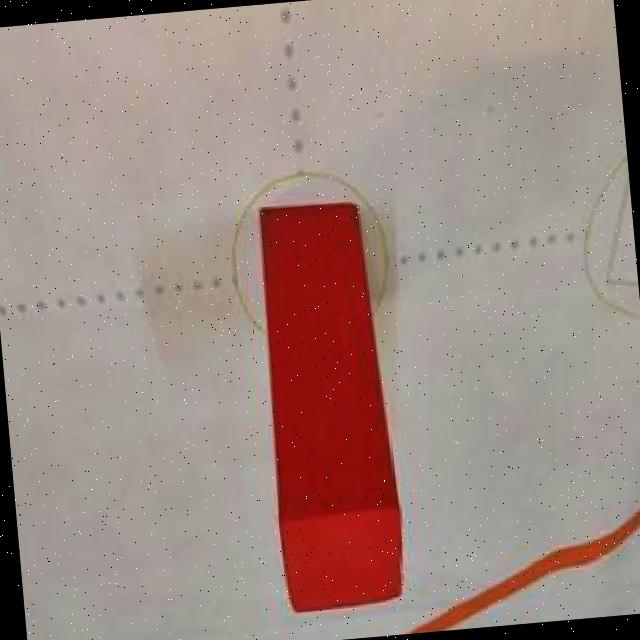redbox: (253, 199, 402, 609)
